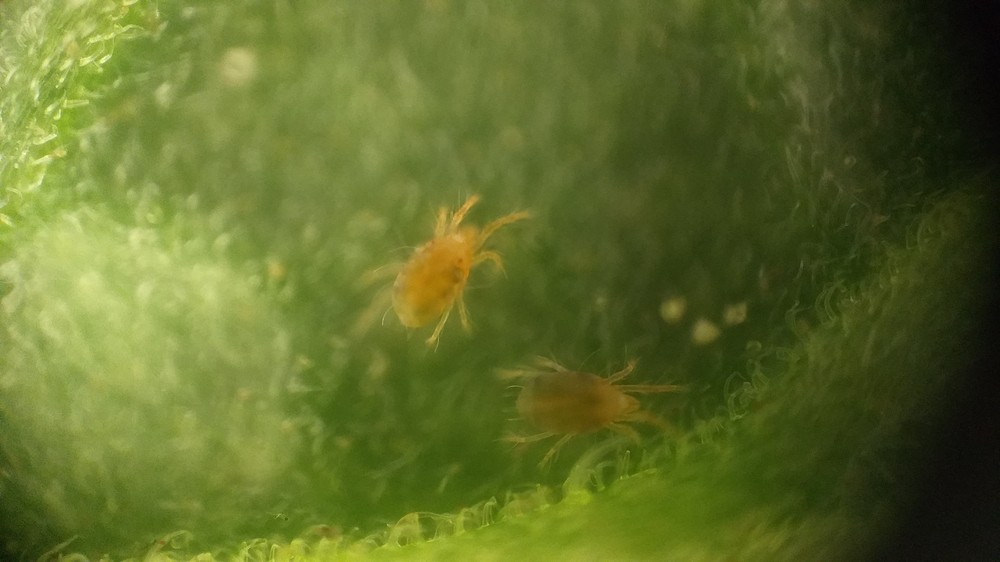Aracnido Rojo: (358, 164, 550, 355), (500, 342, 718, 474)
